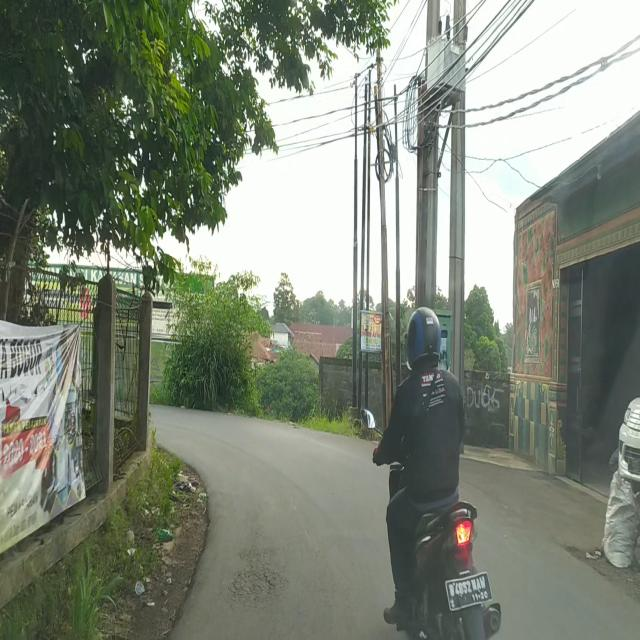Drain Hole: (224, 555, 286, 608)
